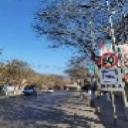speed_limit_60: (98, 52, 119, 68)
